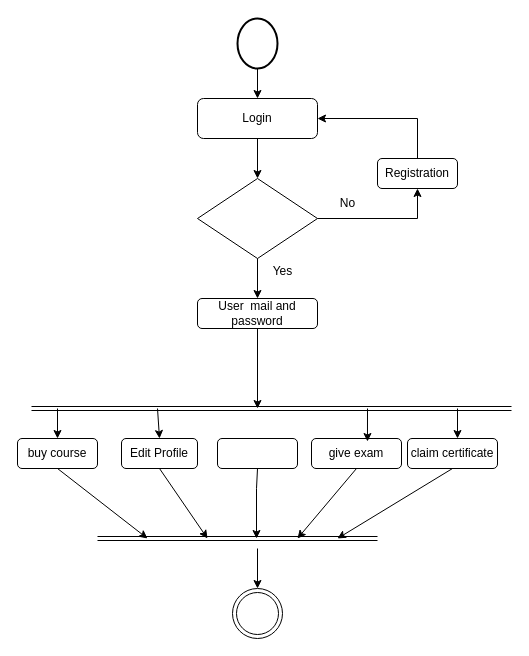
This 529x656 diagram has some shape labels left out. The shapes that lost their labels are listed below. From the top down, each one's centre as x and y in pixels, then its label:
At [257,43]: "Start".
At [257,218]: "Check registered?".
At [257,453]: "pay fees".
At [257,613]: "End".
